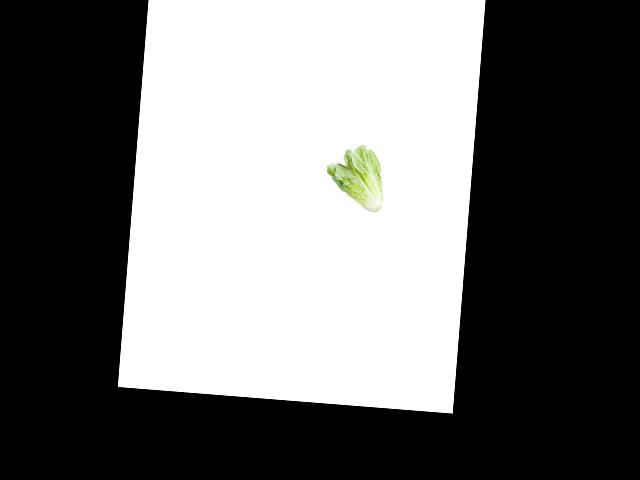lettuce: (320, 142, 392, 217)
